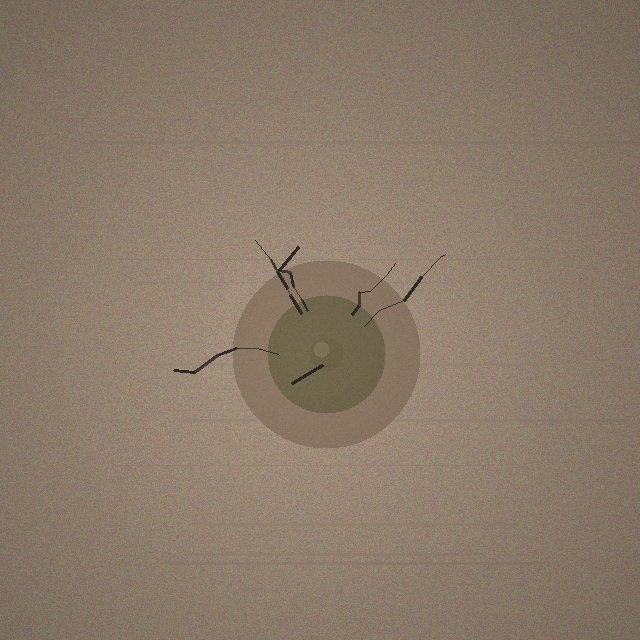crack: (232, 260, 420, 448)
